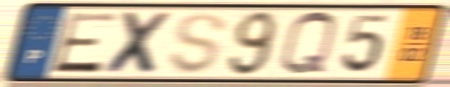5: (336, 13, 395, 76)
9: (225, 9, 282, 79)
E: (48, 11, 122, 75)
Q: (277, 9, 340, 79)
S: (165, 10, 229, 76)
X: (102, 10, 177, 77)
